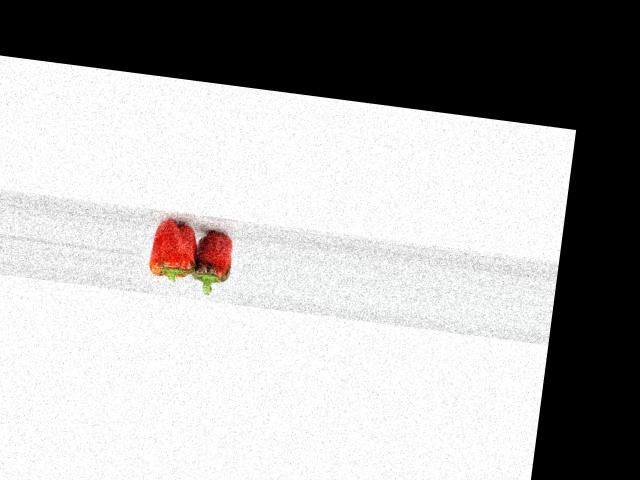bell_pepper: (139, 216, 199, 288)
